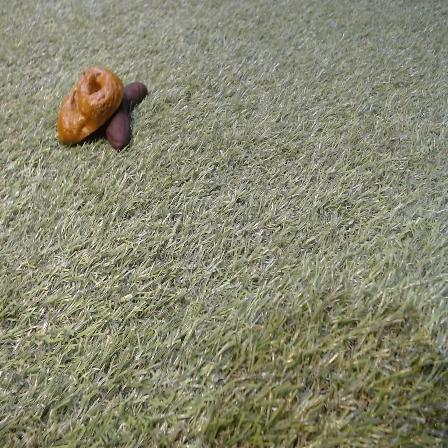dog-poop: (52, 65, 144, 152)
